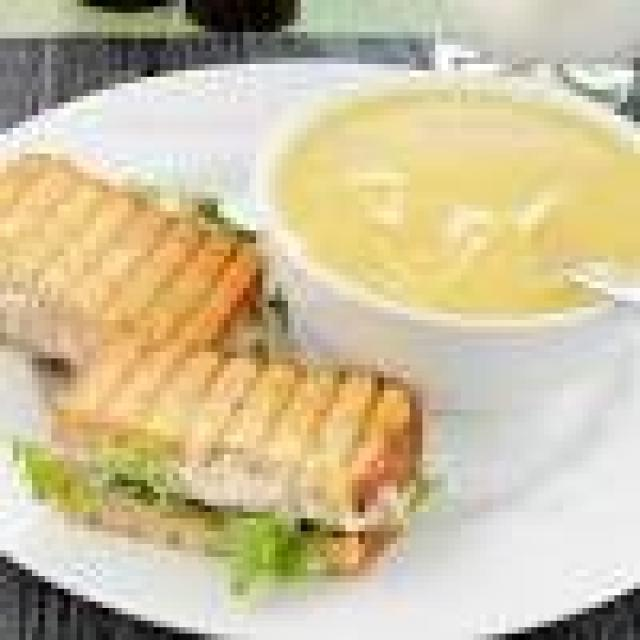Sandwich: (1, 128, 386, 623)
